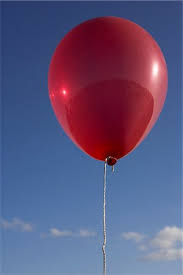Balloon: (48, 17, 168, 162)
